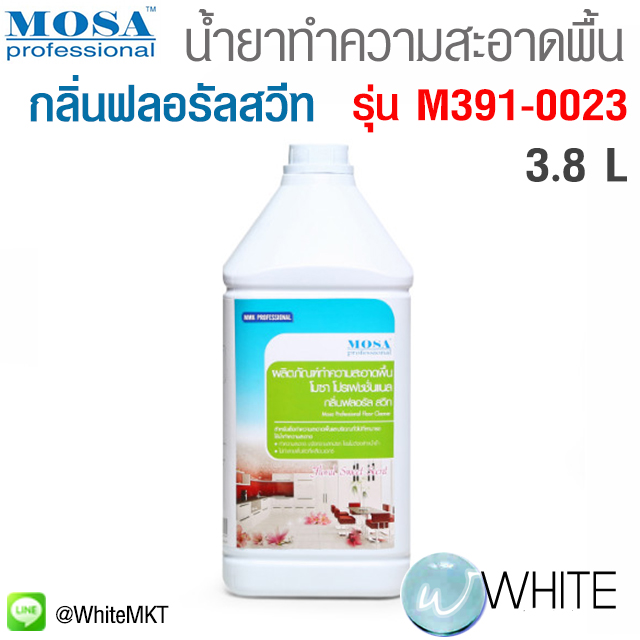Cleaning_solution: (211, 131, 422, 607)
